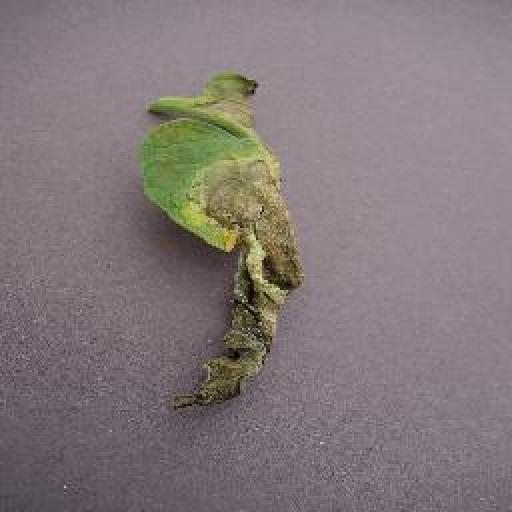Late Blight: (136, 75, 299, 416)
